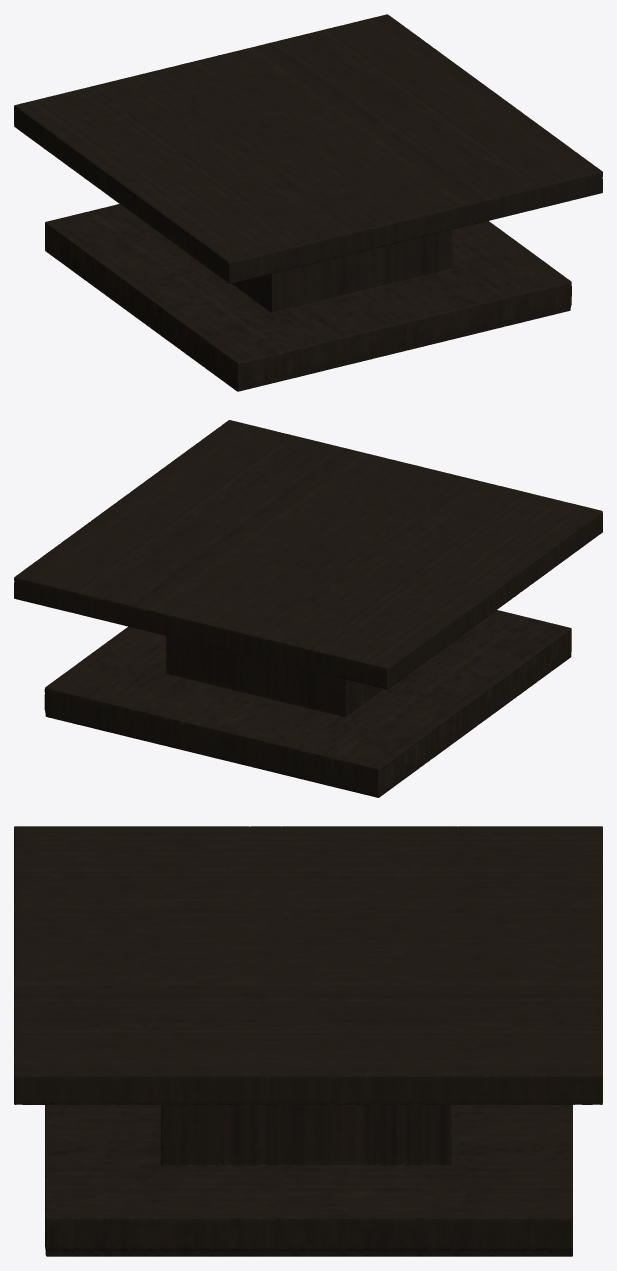
Rendered from coffee_table.glb.
3 renders of one model, top to bottom at view 1: azimuth 30°, elevation 25°; view 2: azimuth 150°, elevation 25°; view 3: azimuth 270°, elevation 25°, orthographic. The views are drawn at different scales.
Visible parts, largest first — view 1: world; view 2: world; view 3: world.
Part boxes in pixels (x1=…): world: x1=14, y1=14, x2=602, y2=391; world: x1=14, y1=420, x2=602, y2=797; world: x1=14, y1=826, x2=602, y2=1256.
Bounding box in the file's own units: 1 × 0.4016 × 0.9975.
Materials: 1 (1 with a texture image).
